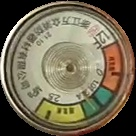green: (82, 86, 115, 120)
needle: (80, 88, 98, 113)
red: (99, 39, 125, 94)
yellow: (36, 99, 86, 125)
